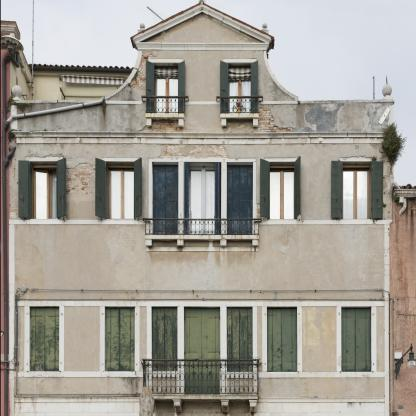Balcony: (142, 218, 262, 239)
Building Outline: (9, 0, 395, 416)
Cornice: (133, 6, 271, 50)
Door: (184, 306, 220, 394), (184, 162, 221, 234), (227, 162, 253, 234), (152, 162, 178, 234)
Facade: (9, 1, 395, 416)
Floor: (9, 260, 390, 416), (9, 150, 390, 260)
Floor Slab: (9, 144, 390, 151), (9, 395, 390, 402), (9, 253, 390, 260)
Molding: (11, 131, 395, 143)
Sill: (143, 394, 259, 413), (145, 235, 259, 247), (145, 113, 185, 128), (220, 113, 259, 128)
Top Floor: (138, 49, 267, 150)
Window: (341, 307, 371, 371), (267, 307, 297, 371), (30, 306, 59, 371), (105, 306, 134, 371), (341, 162, 373, 219), (29, 162, 60, 219), (266, 162, 297, 219), (106, 162, 137, 219), (152, 307, 178, 371), (227, 307, 253, 371), (226, 64, 254, 114), (152, 63, 180, 113)
